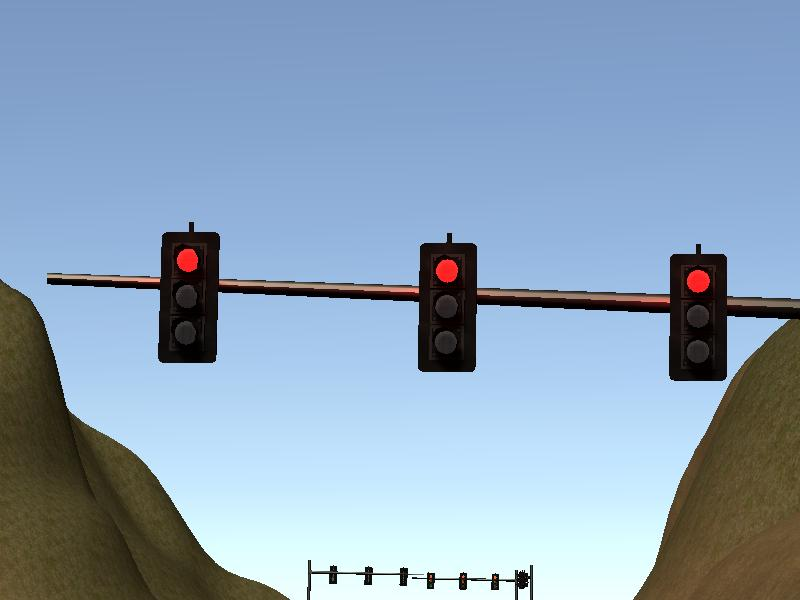Red: (669, 253, 728, 379), (421, 243, 477, 370), (161, 232, 215, 362)
